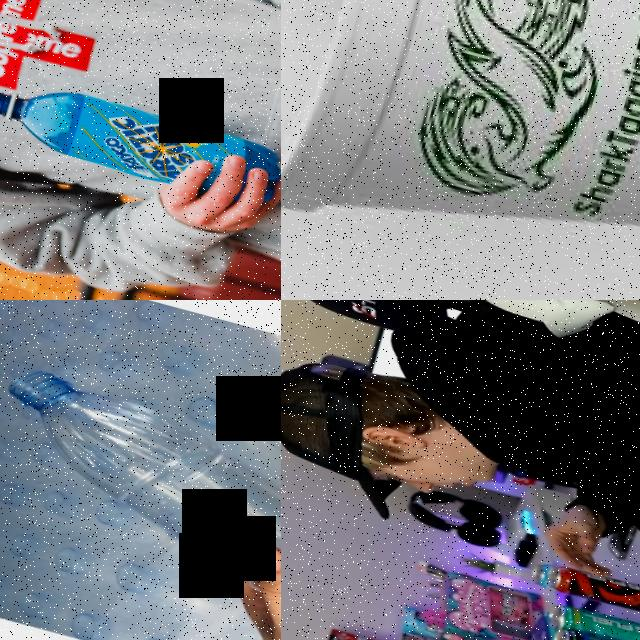bottle: (0, 360, 281, 640), (0, 70, 281, 210)
can: (545, 561, 640, 615), (542, 596, 640, 640), (546, 618, 640, 640)
cup: (281, 0, 640, 300)
